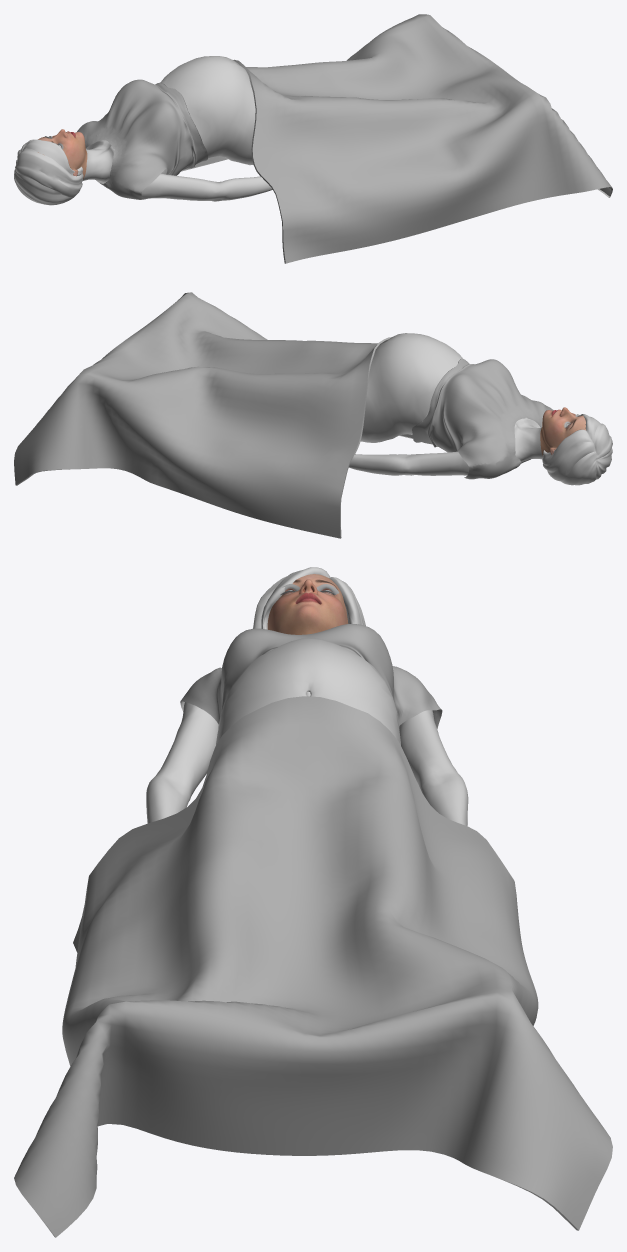
The model's file is patient.fbx.
3 renders of one model, top to bottom at view 1: azimuth 30°, elevation 25°; view 2: azimuth 150°, elevation 25°; view 3: azimuth 270°, elevation 25°, orthographic. The views are drawn at different scales.
Parts seen in each view (by area): view 1: new_blanket1:pPlane3, polySurface1, polySurface5, polySurface6, hair_Shape; view 2: new_blanket1:pPlane3, polySurface1, polySurface5, polySurface6, hair_Shape; view 3: new_blanket1:pPlane3, polySurface6, polySurface5, polySurface1, hair_Shape.
Part boxes in pixels (x1,y1,x2,y2): new_blanket1:pPlane3: [181, 14, 612, 263]; polySurface1: [77, 79, 207, 199]; polySurface5: [160, 56, 255, 165]; polySurface6: [38, 129, 272, 201]; hair_Shape: [14, 139, 83, 205]; new_blanket1:pPlane3: [14, 292, 413, 538]; polySurface1: [412, 358, 553, 479]; polySurface5: [360, 333, 462, 442]; polySurface6: [349, 407, 585, 475]; hair_Shape: [542, 414, 612, 485]; new_blanket1:pPlane3: [14, 696, 612, 1237]; polySurface6: [146, 574, 468, 825]; polySurface5: [216, 638, 400, 745]; polySurface1: [180, 624, 442, 728]; hair_Shape: [253, 567, 365, 629].
Size of the model in its own units: 192 by 59.35 by 106.
